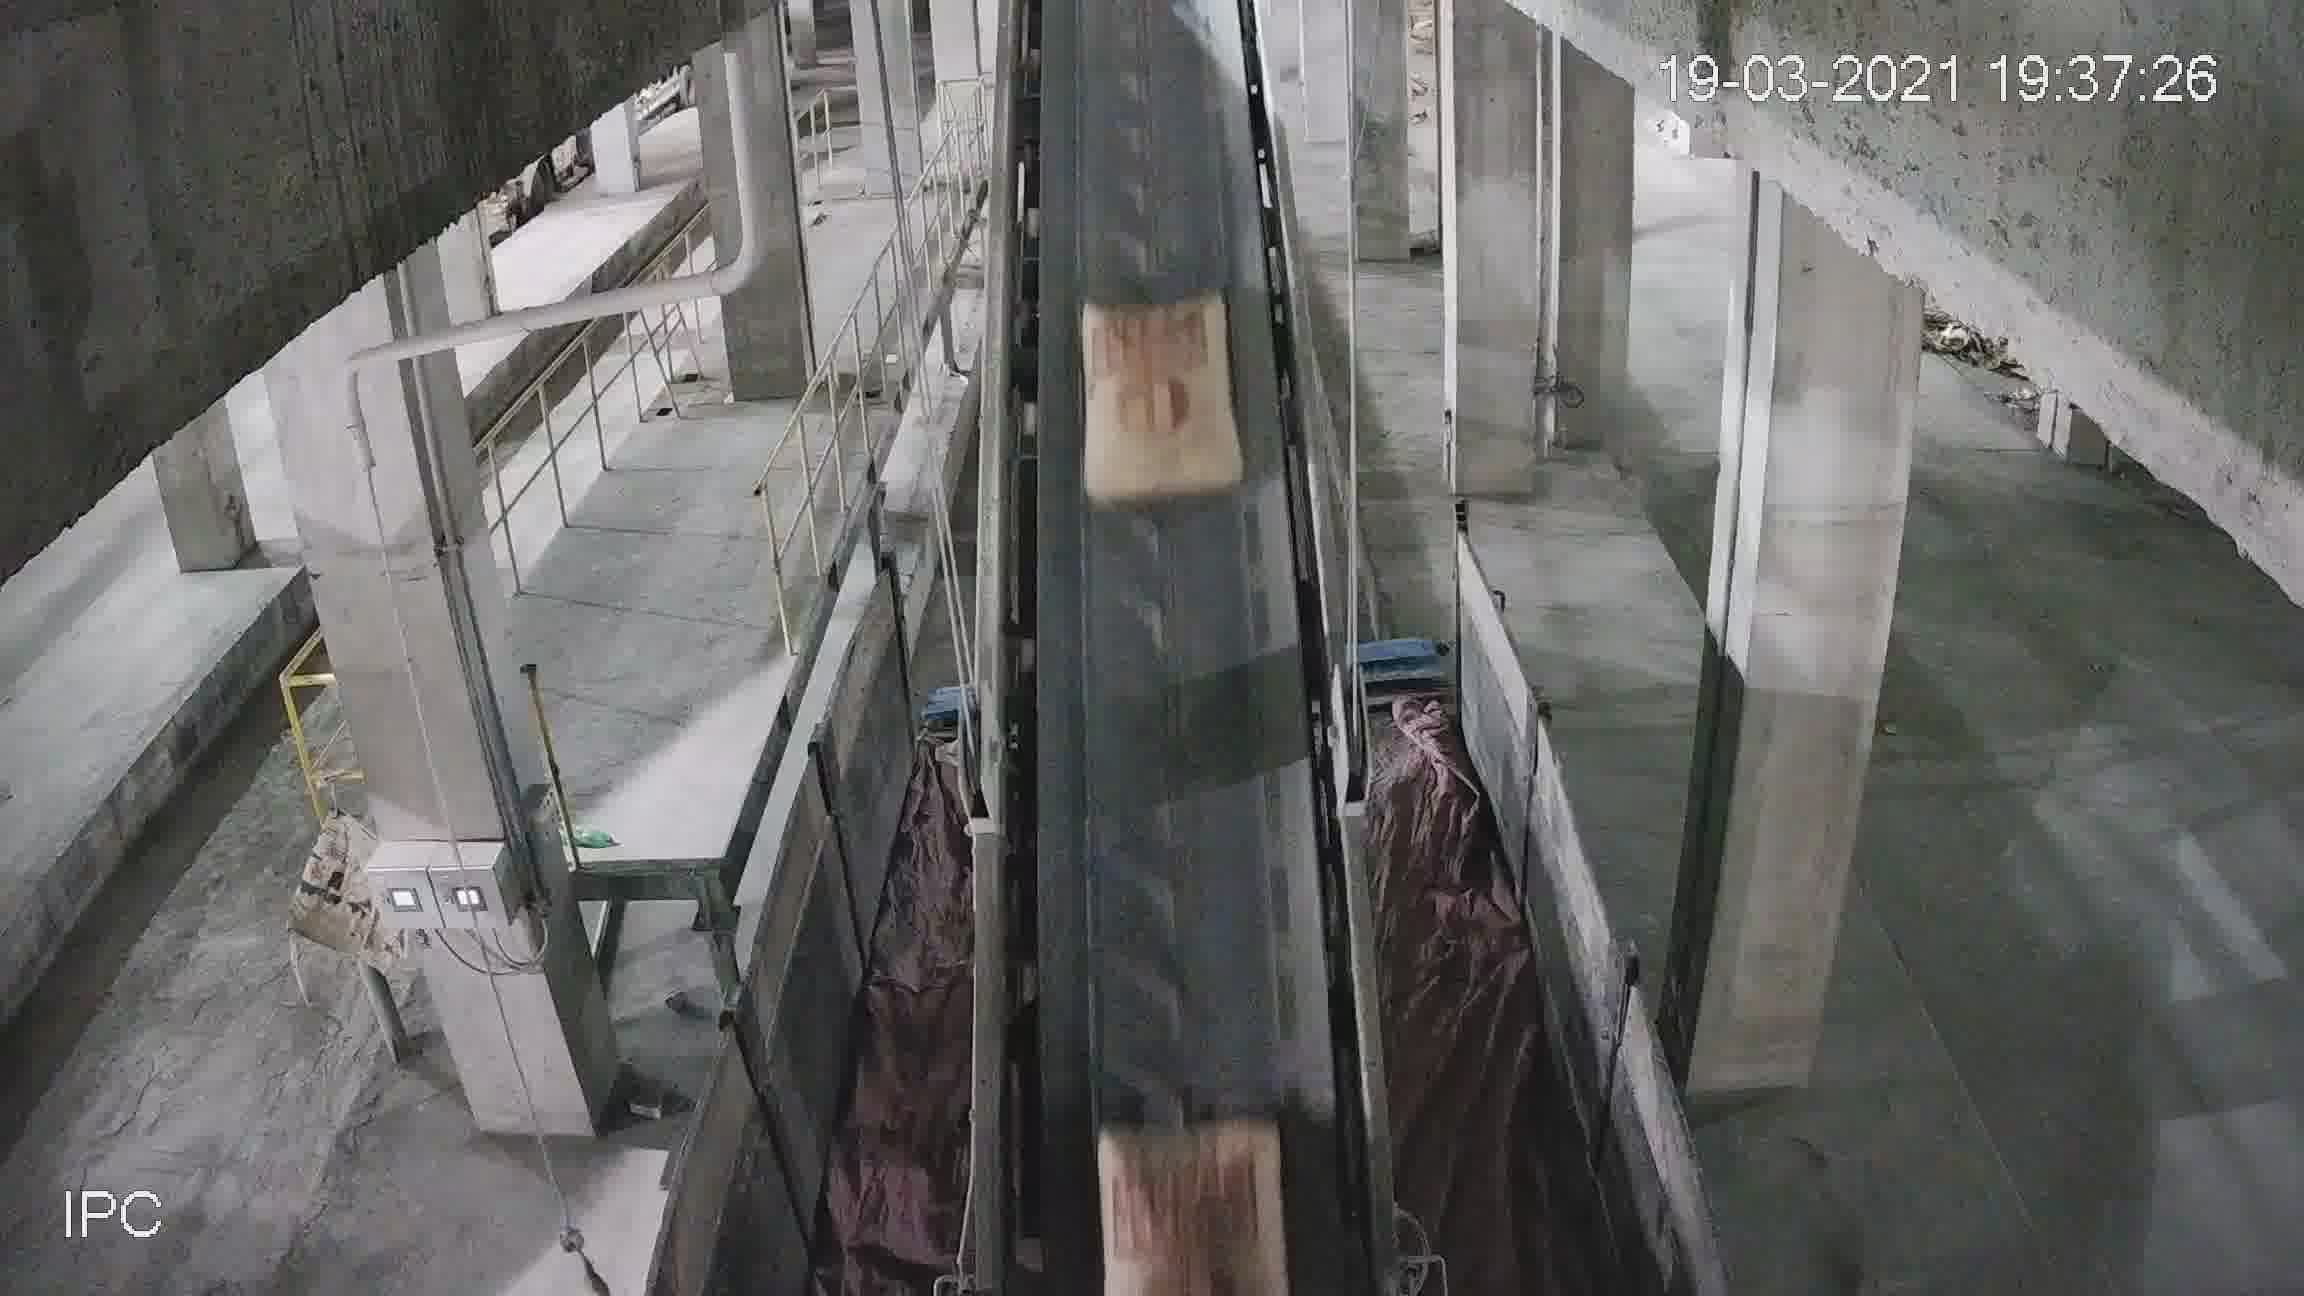bag: (1079, 294, 1237, 497), (1098, 1086, 1282, 1198)
belt: (965, 68, 1366, 1174)
